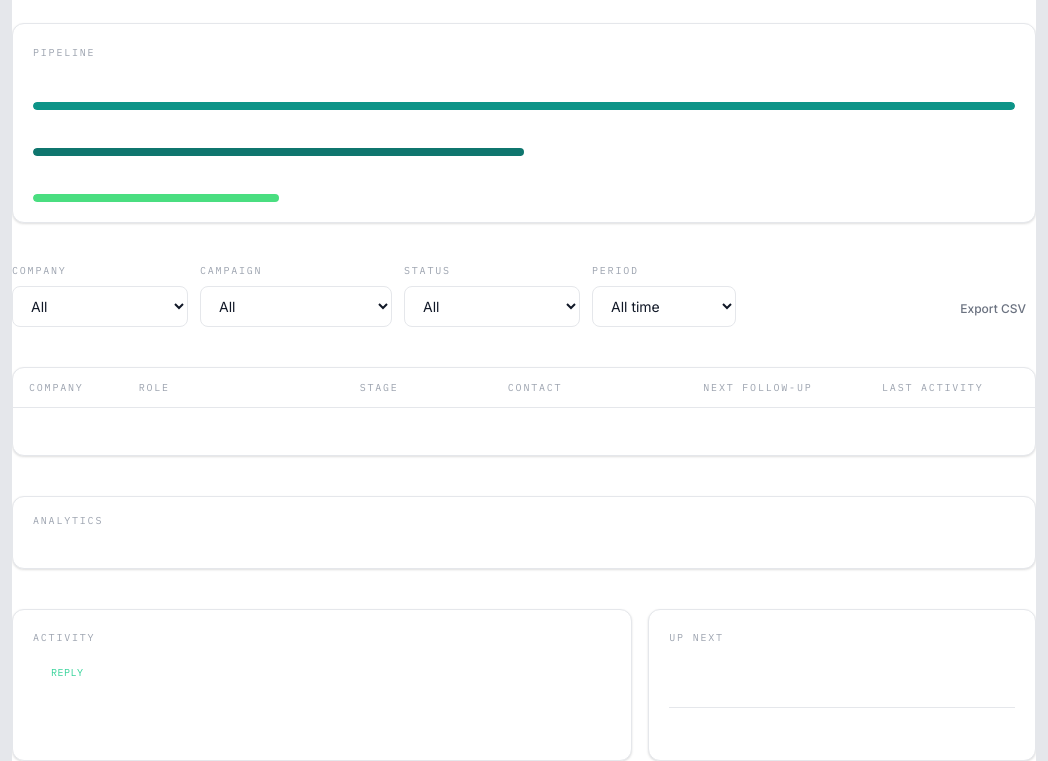
Test: Pipeline analytics › charts the response rate over time
The width and height of the screenshot is (1048, 761).
(page scrolled)
Click the button "Analytics" at (68, 520), box x1=13 y1=496 x2=1035 y2=568
(page scrolled)
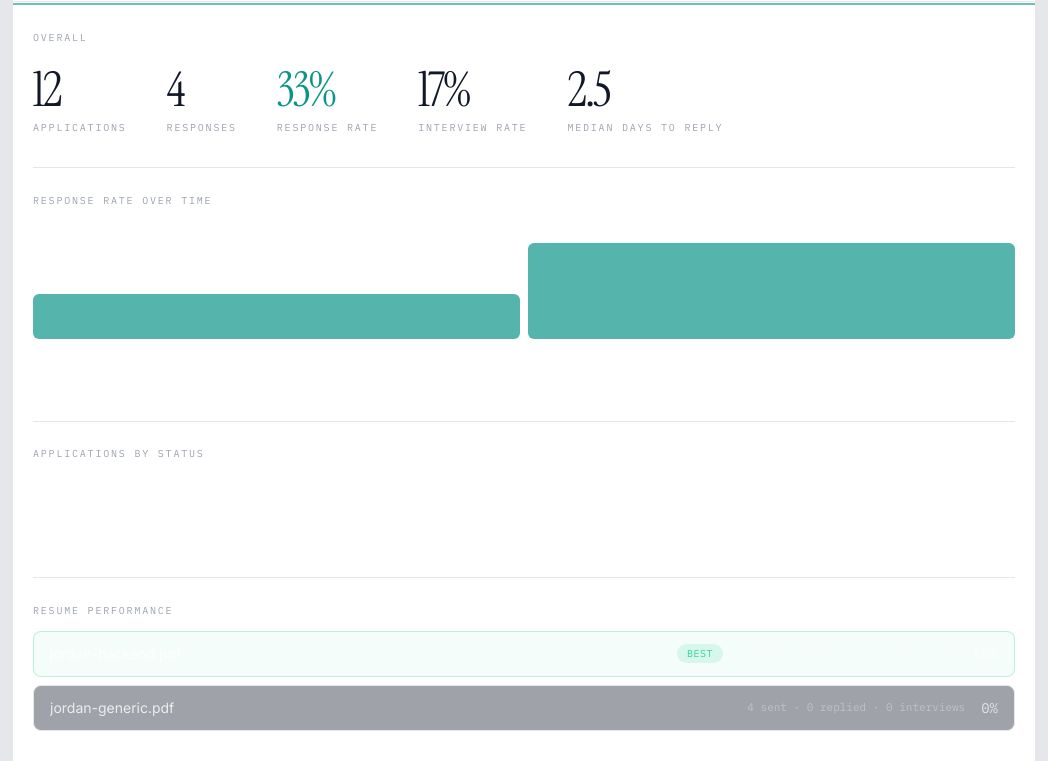
Now the text "Response rate over time" is shown, box x1=33 y1=192 x2=212 y2=208
